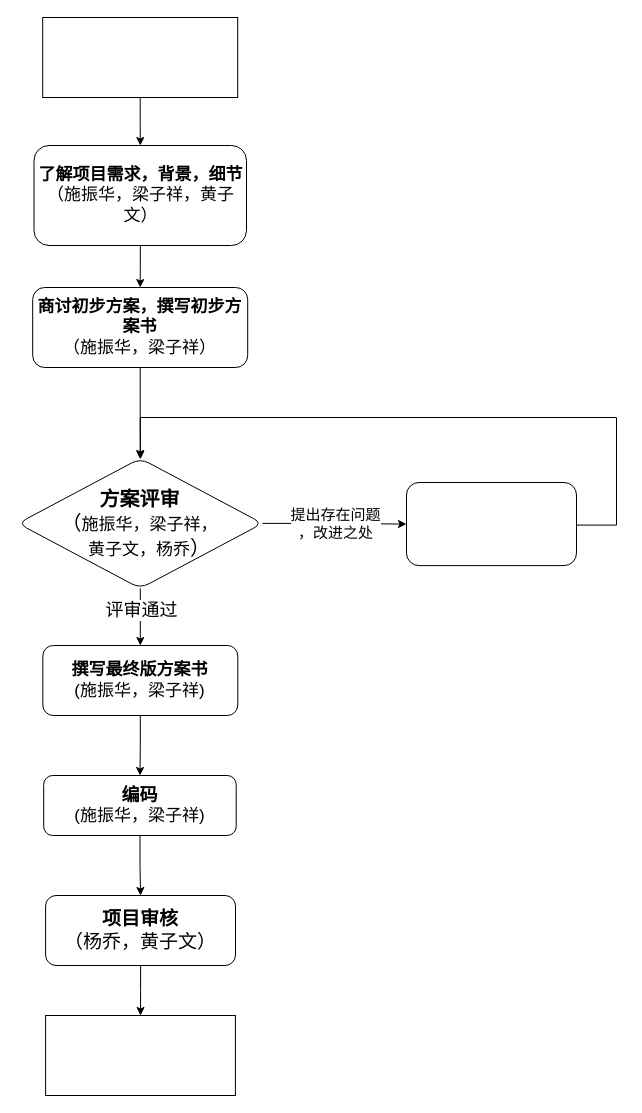
Image size: 642x1113. Some labels were removed from this diagram. The shapes that lost their labels are listed below. From the top down, each one's centre as x and y in pixels, then its label:
the point at 140,57: 项目开始
the point at 491,524: 根据意见修改方案 (施振华 ， 梁子祥 )
the point at 140,1055: 项目结题
